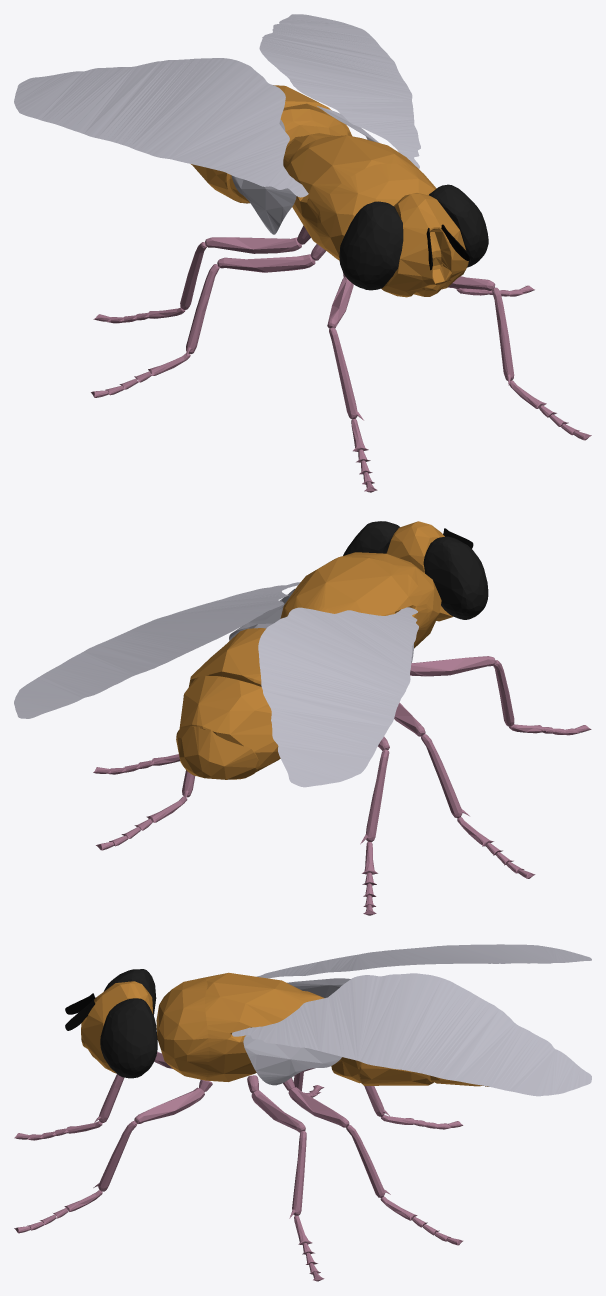
The model's file is Bee.obj.
3 renders of one model, top to bottom at view 1: azimuth 30°, elevation 25°; view 2: azimuth 150°, elevation 25°; view 3: azimuth 270°, elevation 25°, orthographic. The views are drawn at different scales.
Parts seen in each view (by area): view 1: Object02, object 7, Object03, Layer:0, Object01, Object04; view 2: Object02, object 7, Object03, Layer:0, Object01, Mesh02; view 3: Object03, object 7, Layer:0, Object02, Object01, Mesh02, Object04, Mesh01.
Boxes of the visible parts, x1,y1,x2,y2 form: Object02: (14, 58, 308, 197); object 7: (191, 85, 468, 297); Object03: (259, 14, 420, 168); Layer:0: (91, 225, 591, 492); Object01: (339, 184, 488, 290); Object04: (231, 119, 296, 234); Object02: (258, 607, 418, 787); object 7: (176, 521, 452, 779); Object03: (14, 582, 300, 718); Layer:0: (93, 656, 591, 915); Object01: (343, 521, 488, 619); Mesh02: (229, 588, 295, 640); Object03: (232, 973, 591, 1096); object 7: (81, 972, 488, 1086); Layer:0: (14, 1052, 463, 1281); Object02: (257, 944, 591, 978); Object01: (100, 969, 157, 1078); Mesh02: (243, 1035, 341, 1085); Object04: (287, 978, 350, 997); Mesh01: (65, 993, 95, 1030).
Bounding box in the file's own units: 4.02 × 2.1 × 5.05.
